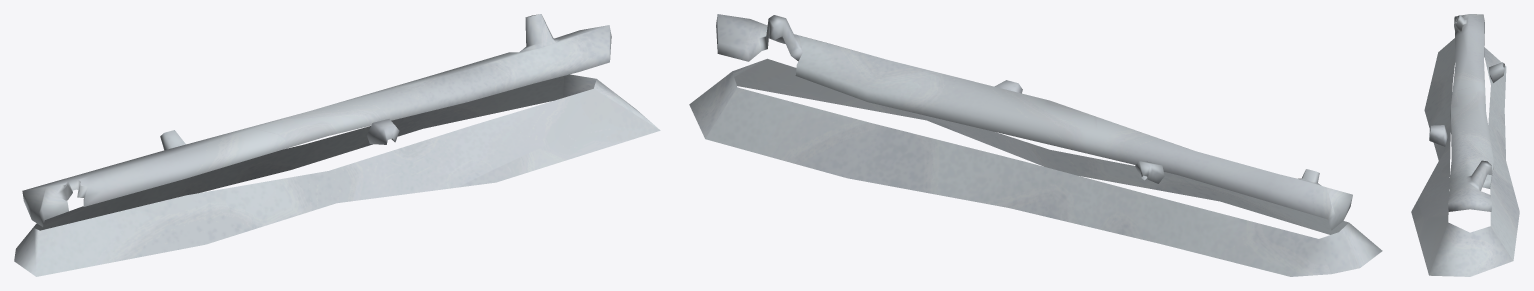
Rendered from TreeStub_5_Snow.fbx.
The picture shows the model from 3 angles, left to right: view 1: azimuth 30°, elevation 25°; view 2: azimuth 150°, elevation 25°; view 3: azimuth 270°, elevation 25°; orthographic projection. The views are drawn at different scales.
Parts seen in each view (by area): view 1: TreeStub_5_Snow; view 2: TreeStub_5_Snow; view 3: TreeStub_5_Snow.
Boxes of the visible parts, left/top/right/bottom form: TreeStub_5_Snow: left=14, top=14, right=660, bottom=276; TreeStub_5_Snow: left=689, top=14, right=1382, bottom=276; TreeStub_5_Snow: left=1411, top=14, right=1519, bottom=276.
Size of the model in its own units: 780 by 132 by 159.
